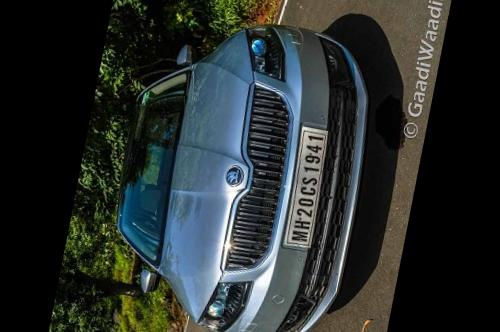plate: (269, 110, 349, 264)
